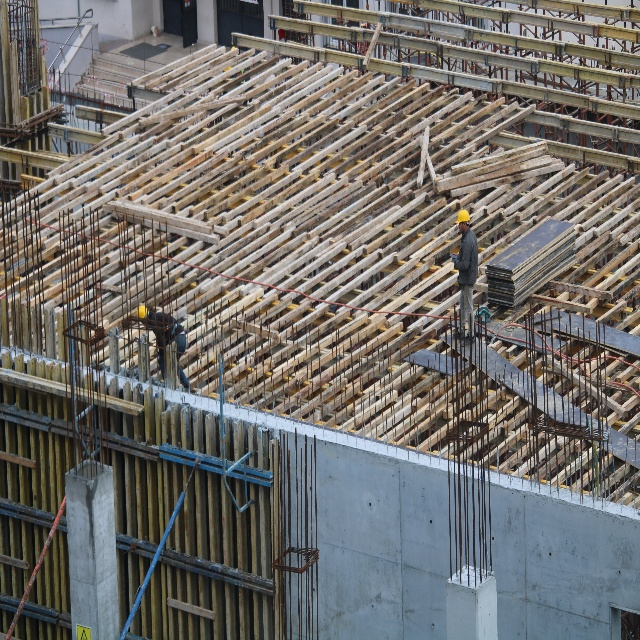Guantes: (454, 258, 458, 265)
Sin_guantes: (452, 253, 459, 260)
